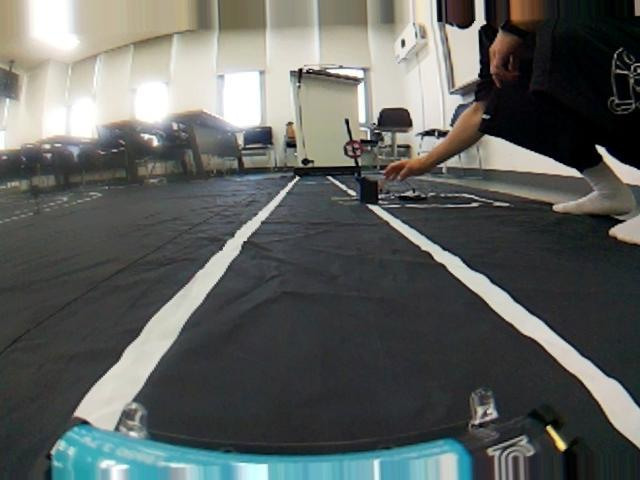sign_stop: (344, 140, 367, 158)
straight: (0, 220, 640, 480)
